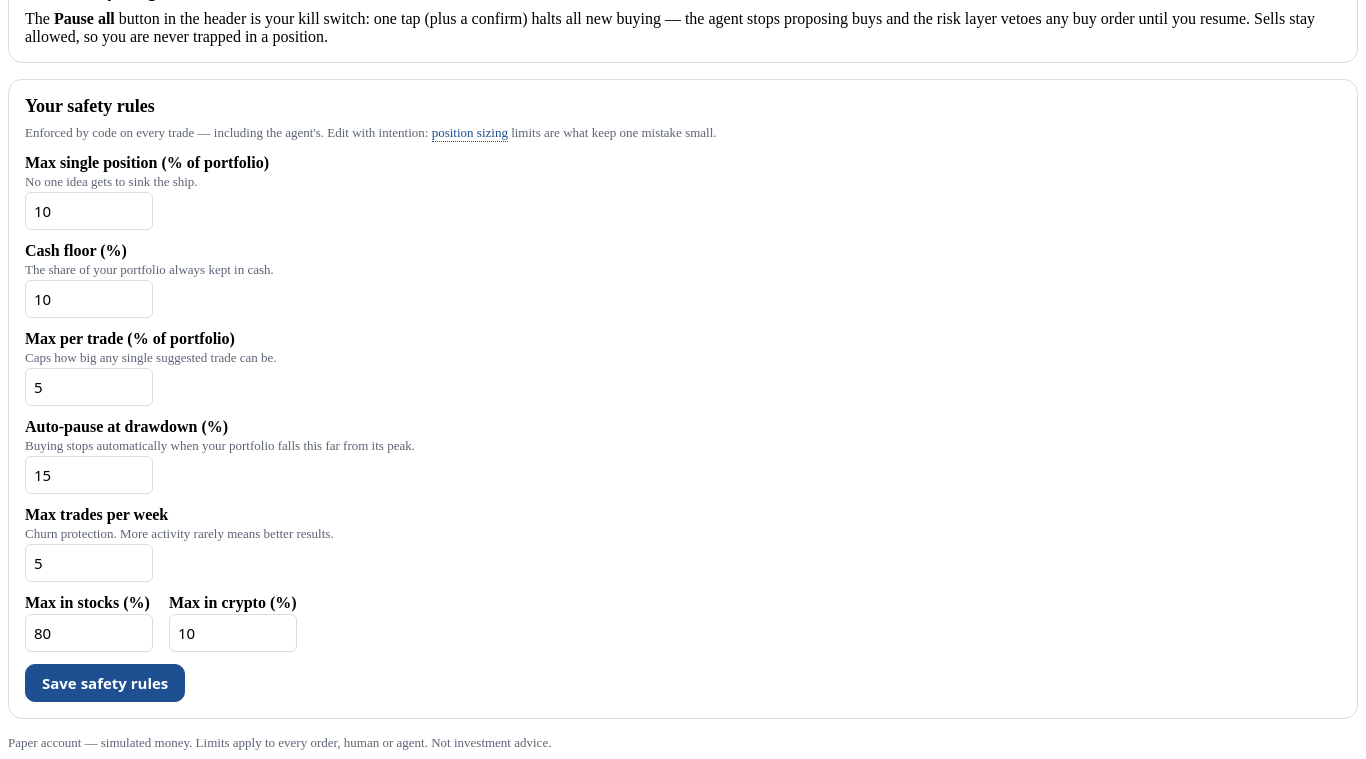
Test: a validation rejection from the API renders as an alert
(page scrolled)
Expected: the field labelled "Max single position (% of portfolio)" is shown, left=25, top=192, right=153, bottom=230
Click the button "Save safety rules" at (105, 683), box left=25, top=664, right=185, bottom=702
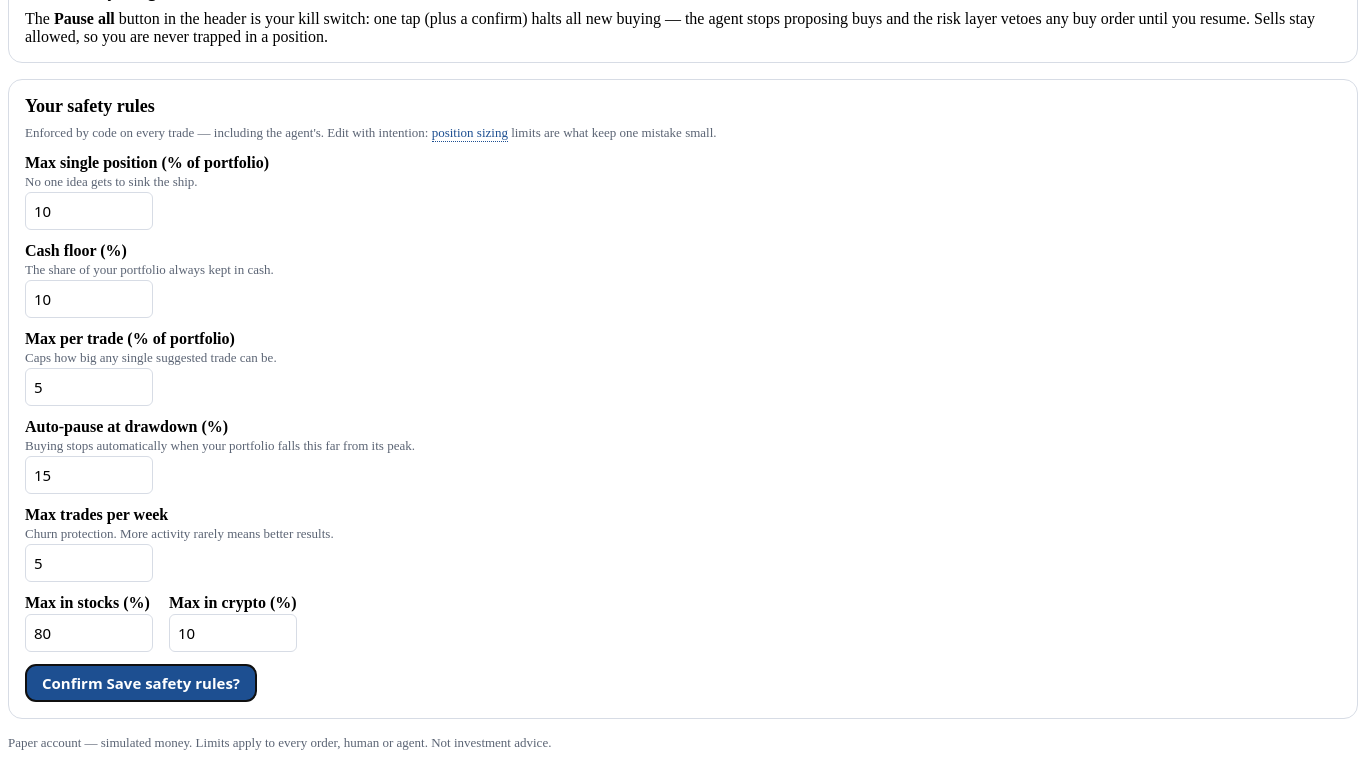
Click the button "Confirm Save safety rules?" at (141, 683), box left=25, top=664, right=257, bottom=702
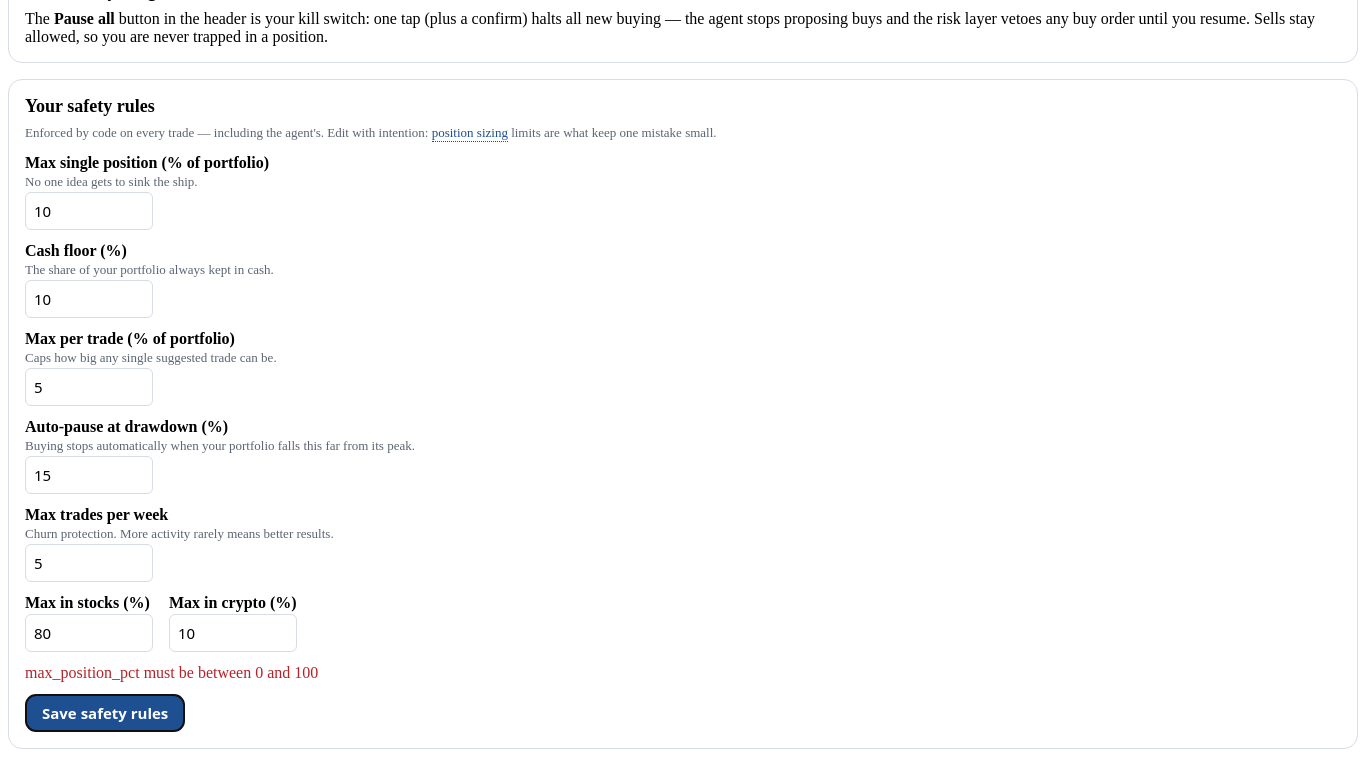
Expected: the message shows "between 0 and 100", left=25, top=664, right=318, bottom=681
